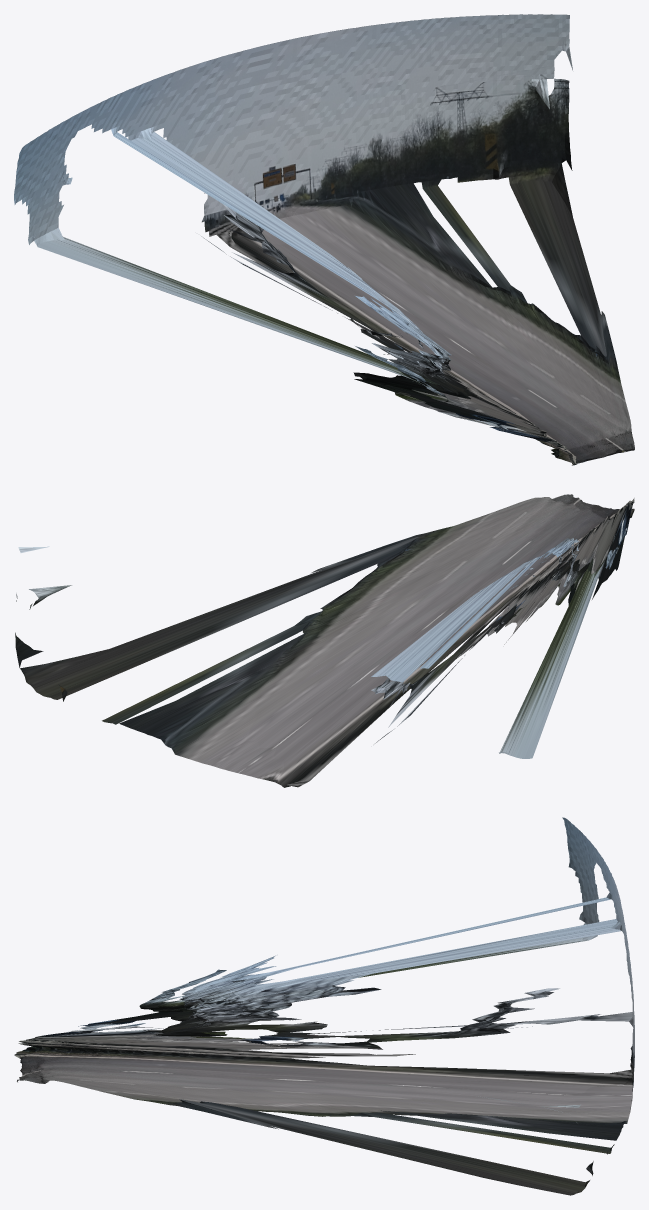
The picture shows the model from 3 angles, top to bottom: view 1: azimuth 30°, elevation 25°; view 2: azimuth 150°, elevation 25°; view 3: azimuth 270°, elevation 25°; orthographic projection. The views are drawn at different scales.
Parts seen in each view (by area): view 1: defaultobject; view 2: defaultobject; view 3: defaultobject.
Part boxes in pixels (<box>): defaultobject: <box>14,14,634,465</box>; defaultobject: <box>15,494,634,787</box>; defaultobject: <box>14,817,634,1195</box>.
Size of the model in its own units: 41.02 by 13.21 by 44.75.
Materials: 1 (1 with a texture image).
